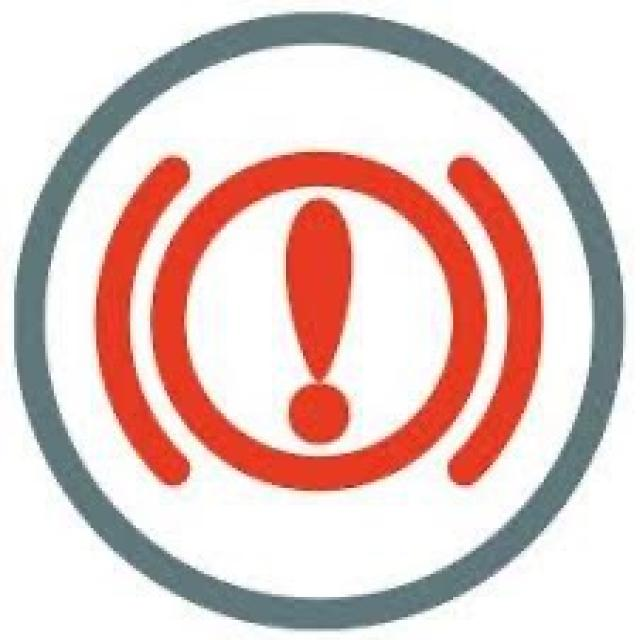kontrolka: (74, 134, 556, 519)
